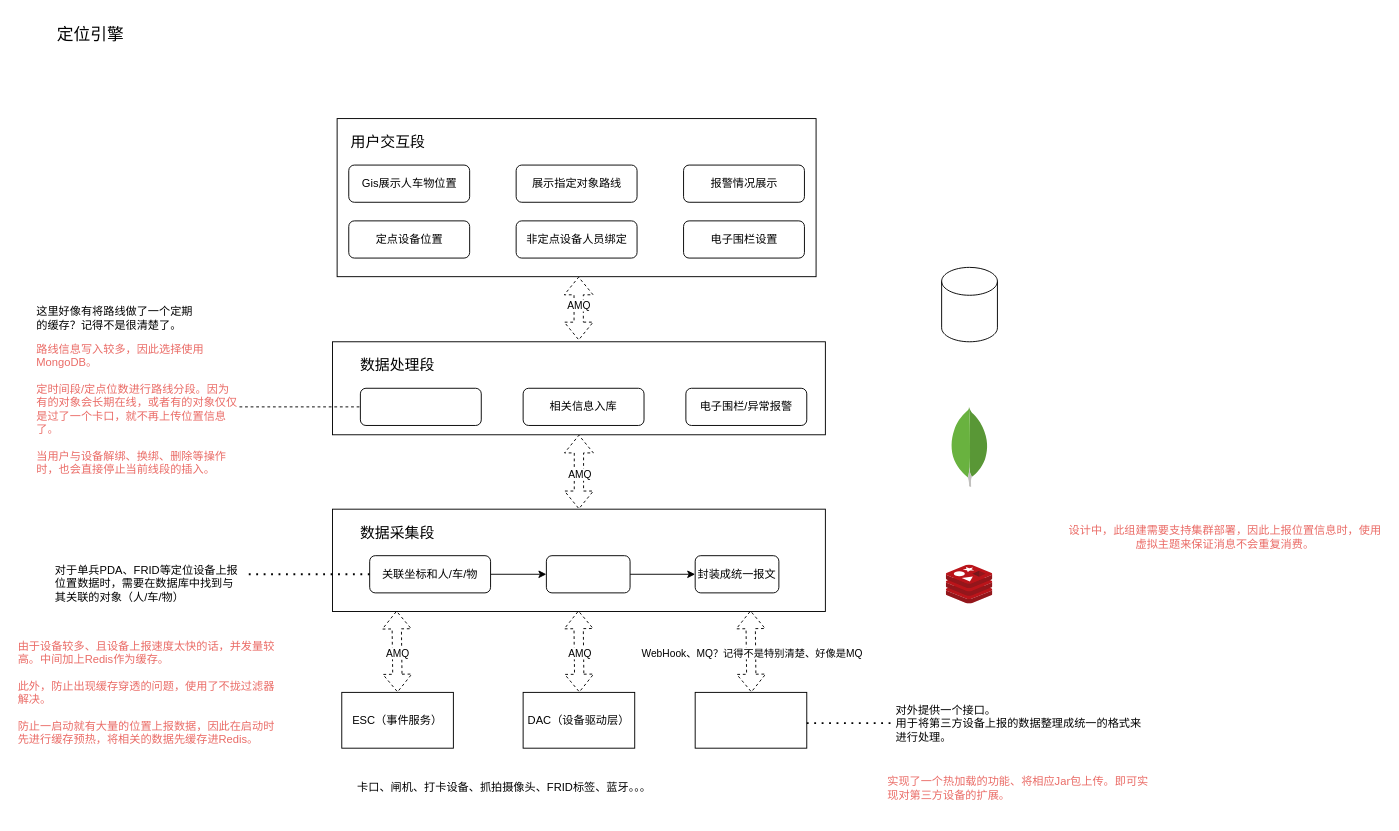
This 1399x831 diagram has some shape labels left out. Each missing label, with the centre of its shape:
"MondogDB" belongs at pixel 969 446.
"psql" belongs at pixel 969 304.
"Redis" belongs at pixel 969 584.
"第三方设备上报" belongs at pixel 750 719.
"统一坐标系" belongs at pixel 587 574.
"路线入库" belongs at pixel 420 406.
